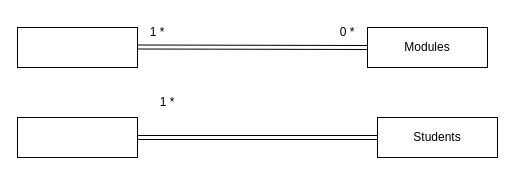
The diagram is 515 pixels wide and 175 high, and some of its shapes have lost their labels. The centre of each missing label's shape, as x and y in pixels:
Courses: point (77, 47)
Staff: point (77, 137)
